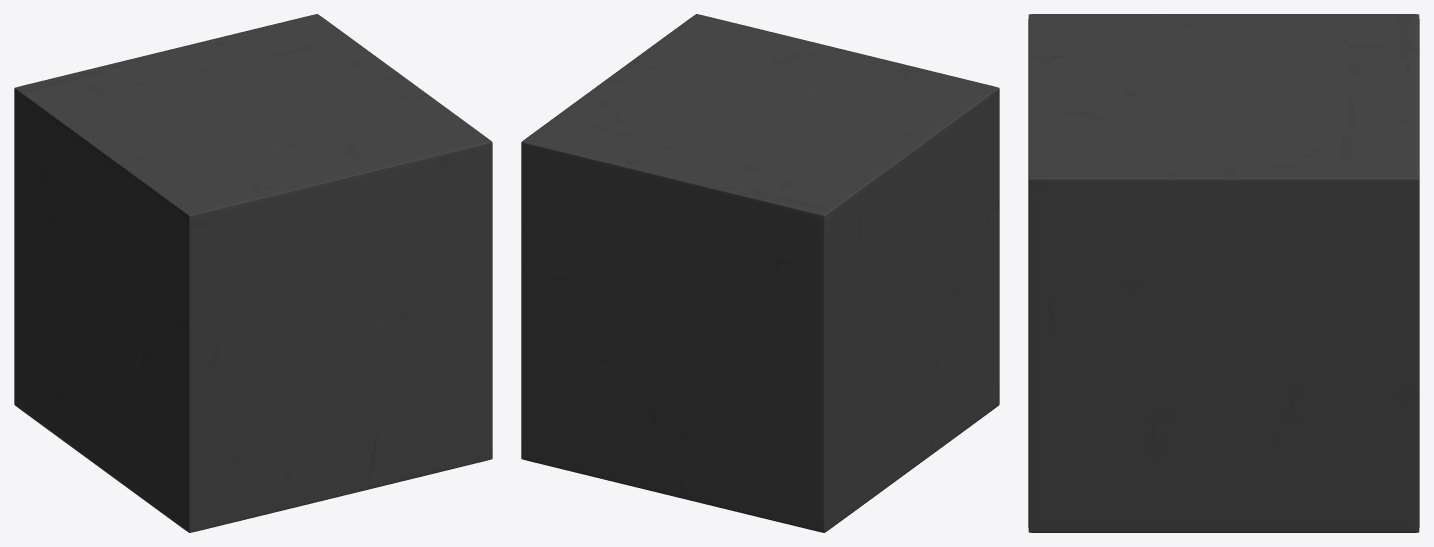
3 views of the same model, side by side, from view 1: azimuth 30°, elevation 25°; view 2: azimuth 150°, elevation 25°; view 3: azimuth 270°, elevation 25° (orthographic). The views are drawn at different scales.
Parts seen in each view (by area): view 1: Cube; view 2: Cube; view 3: Cube.
Part boxes in pixels (x1,y1,x2,y2): Cube: [14, 14, 492, 532]; Cube: [521, 14, 999, 532]; Cube: [1028, 14, 1419, 532].
Bounding box in the file's own units: 2 × 2 × 2.
Materials: 1 (1 with a texture image).
